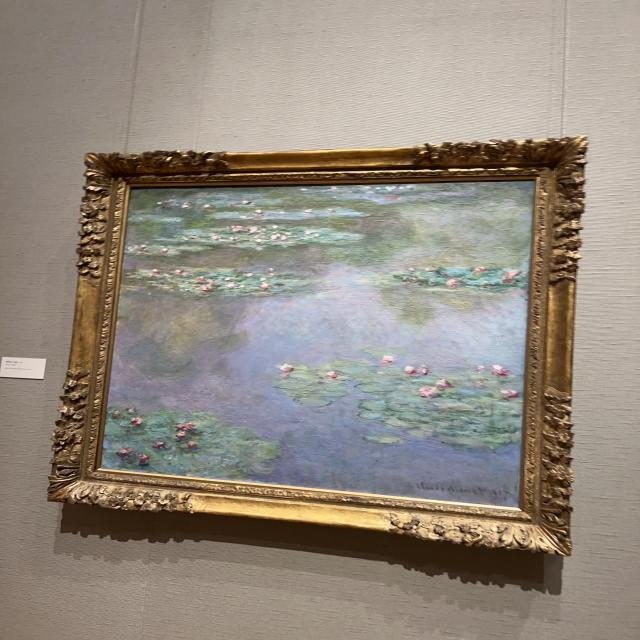lilies: (104, 183, 529, 504)
